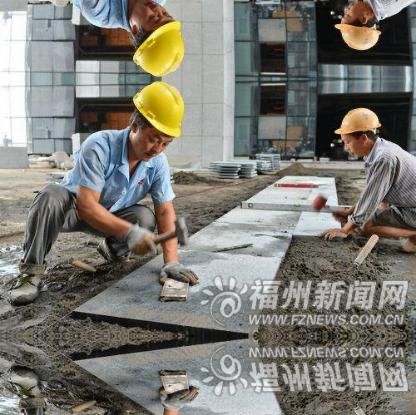Safety Helmet: (123, 1, 189, 79), (130, 79, 186, 168), (330, 1, 386, 57), (331, 107, 389, 159)
